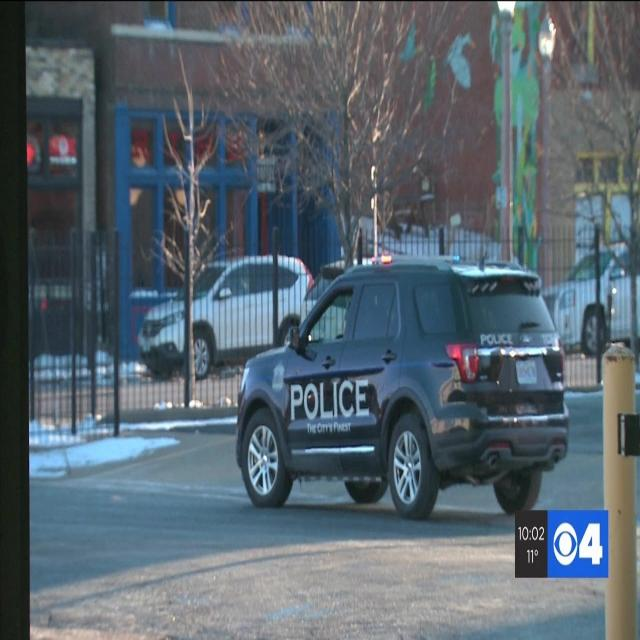car: (238, 251, 570, 501), (120, 263, 244, 373)
